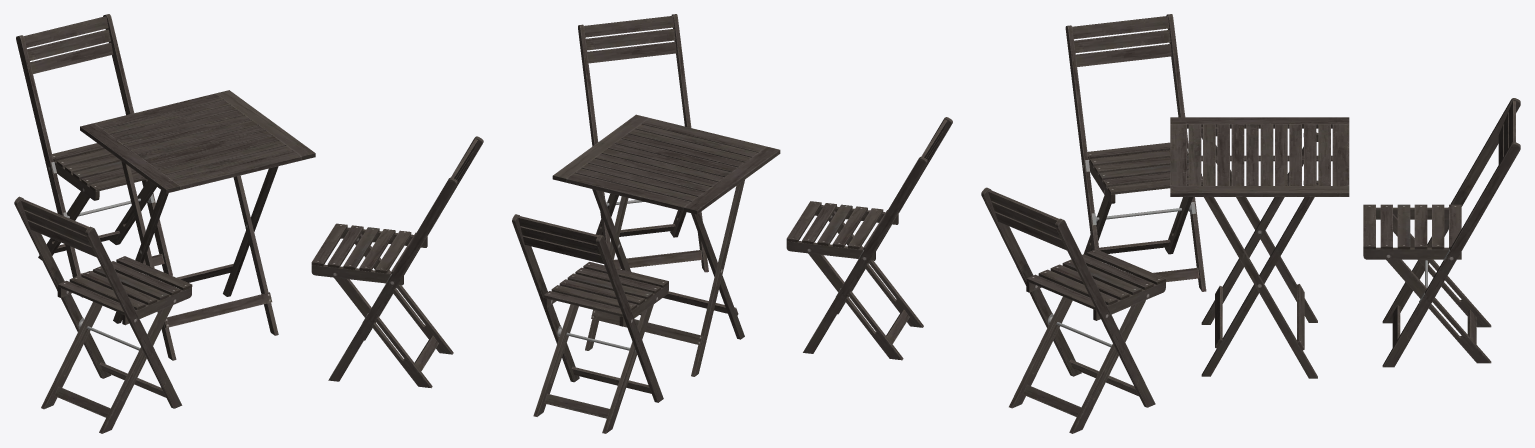
The model's file is prop_terraza.glb.
3 renders of one model, left to right at view 1: azimuth 30°, elevation 25°; view 2: azimuth 150°, elevation 25°; view 3: azimuth 270°, elevation 25°, orthographic. The views are drawn at different scales.
Parts seen in each view (by area): view 1: table__0, chair003__0, chair1__0, chair2__0; view 2: table__0, chair1__0, chair003__0, chair2__0; view 3: table__0, chair2__0, chair1__0, chair003__0.
Part boxes in pixels (x1,y1,x2,y2): table__0: (80,90,315,360); chair003__0: (14,196,192,433); chair1__0: (16,14,172,297); chair2__0: (311,136,483,388); table__0: (552,114,780,376); chair1__0: (512,214,668,433); chair003__0: (786,117,952,360); chair2__0: (578,14,708,272); table__0: (1170,117,1349,378); chair2__0: (981,187,1165,433); chair1__0: (1363,98,1520,367); chair003__0: (1065,14,1206,291).
Size of the model in its own units: 1.67 by 0.826 by 1.81.
Materials: 1 (1 with a texture image).
